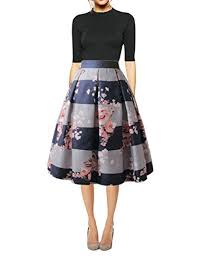C_skirt: (45, 61, 157, 184)
